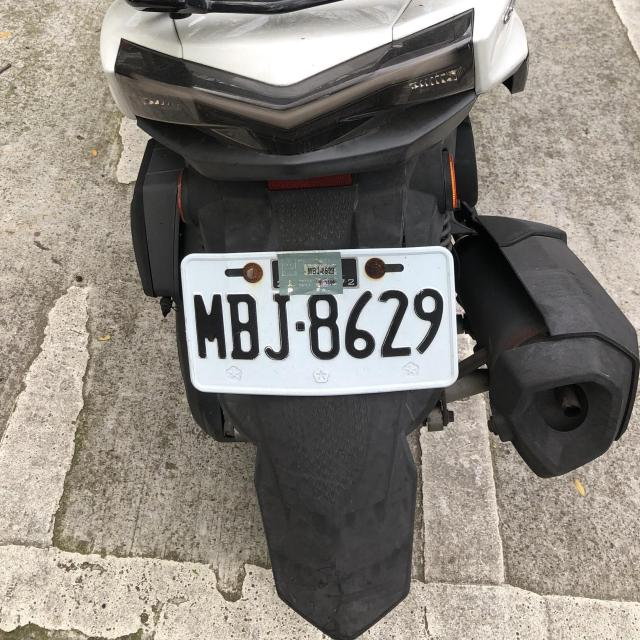W: (180, 247, 456, 396)
